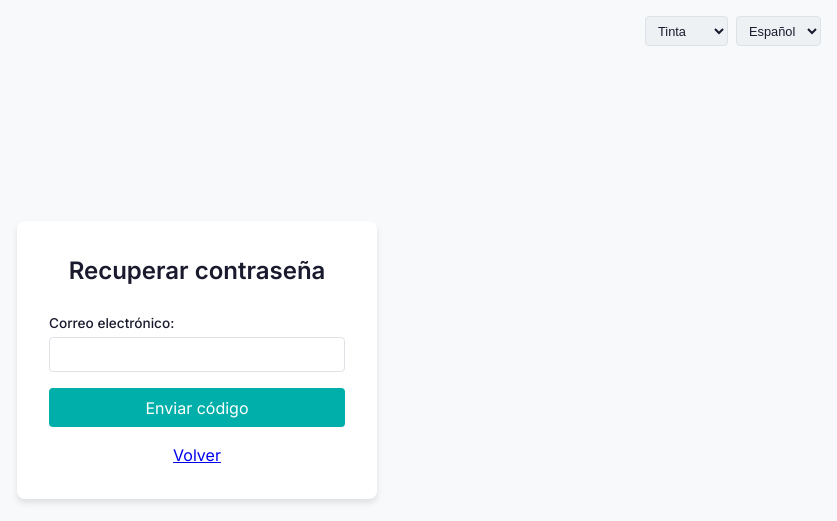
Test case: ForgotPasswordPage › shows error when API request fails
Type "test@test.com" into the field labelled "Correo electrónico:" at (197, 355), box [49,337,345,372]
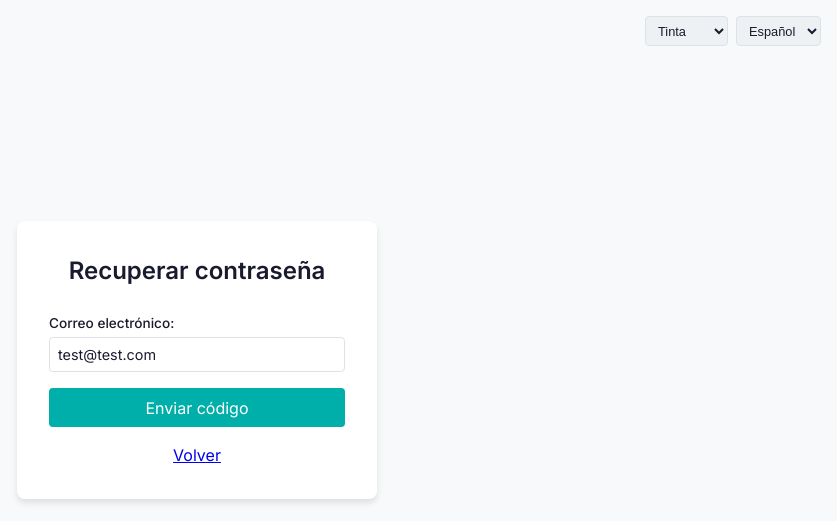
Click the button "Enviar código" at (197, 408), box [49,388,345,427]
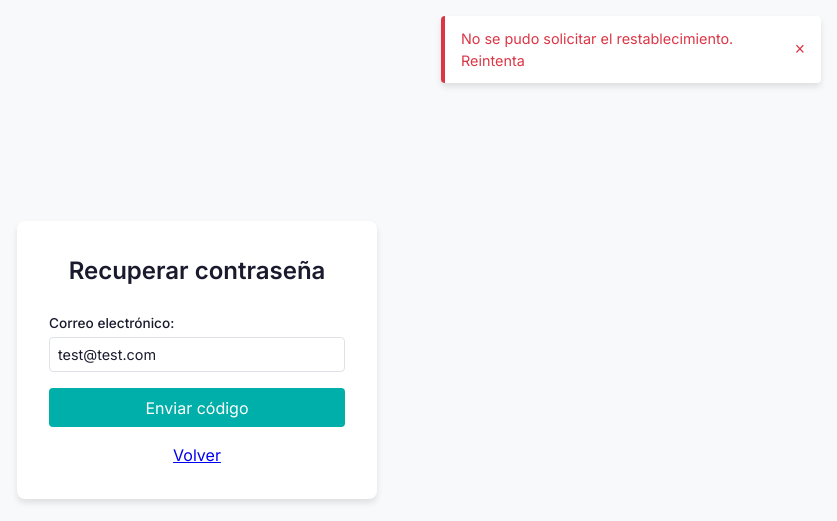
Expected: the message "No se pudo solicitar el restablecimiento. Reintenta ×" is shown, [441,16,821,83]
